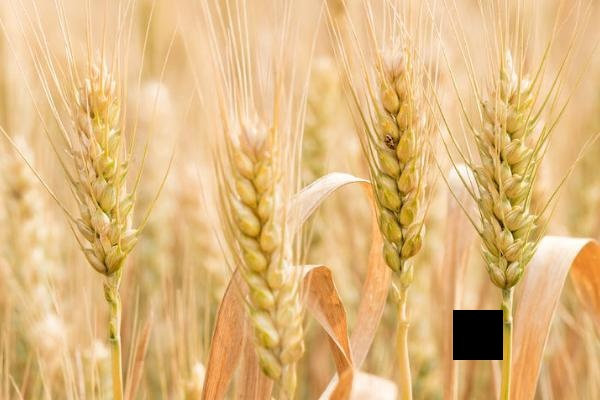wheat: (217, 123, 317, 370), (367, 40, 426, 312), (69, 58, 134, 302), (476, 60, 537, 307)
